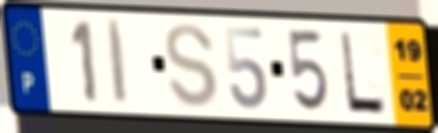1: (69, 18, 99, 105)
5: (222, 24, 270, 111), (285, 27, 331, 114)
I: (104, 18, 131, 109)
L: (337, 29, 390, 118)
S: (162, 21, 220, 111)
